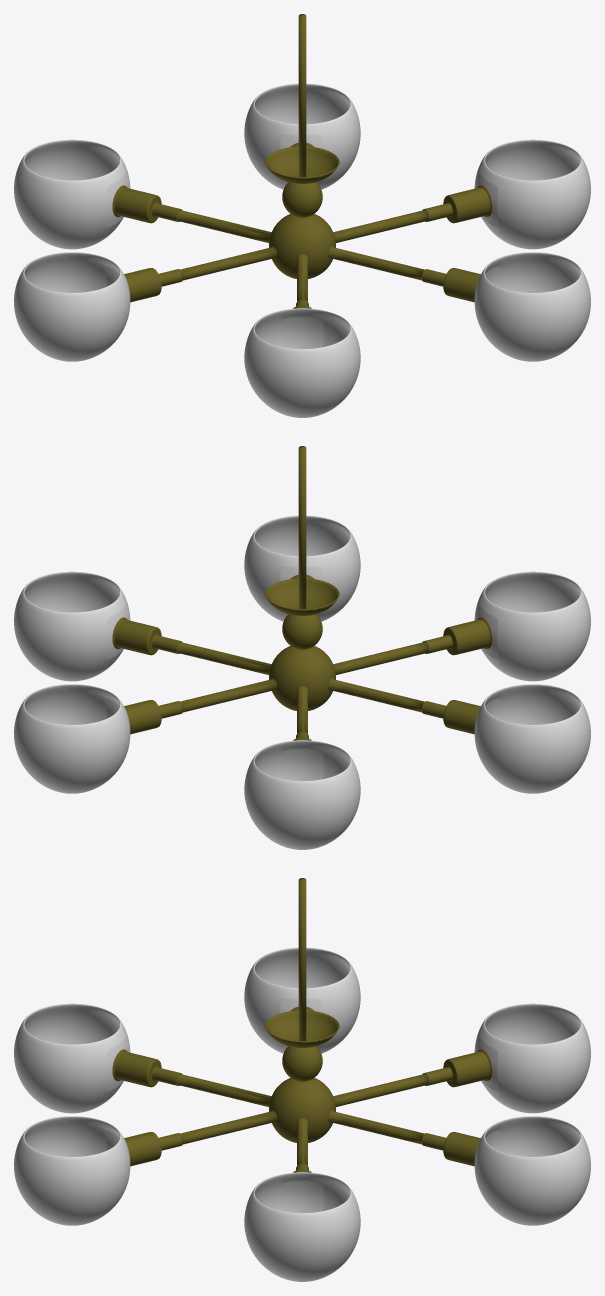
File: skedafa17f.glb
3 views of the same model, one above another, from view 1: azimuth 30°, elevation 25°; view 2: azimuth 150°, elevation 25°; view 3: azimuth 270°, elevation 25° (orthographic).
Visible parts, largest first — view 1: Pole.004_11, Pole.006_15, Pole.003_9, Pole.001_5, Pole.005_13, Pole.002_7, Ball_3, Ball.002_2, Anchor_0, Ball.001_1; view 2: Pole.002_7, Pole.004_11, Pole.001_5, Pole.005_13, Pole.003_9, Pole.006_15, Ball_3, Ball.002_2, Anchor_0, Ball.001_1; view 3: Pole.002_7, Pole.006_15, Pole.005_13, Pole.003_9, Pole.001_5, Pole.004_11, Ball_3, Ball.002_2, Anchor_0, Ball.001_1.
Boxes of the visible parts, x1,y1,x2,y2 form: Pole.004_11: (14,246,276,361); Pole.006_15: (328,246,590,361); Pole.003_9: (14,139,271,249); Pole.001_5: (333,139,590,249); Pole.005_13: (244,254,360,417); Pole.002_7: (244,83,360,189); Ball_3: (269,214,335,278); Ball.002_2: (265,146,339,183); Anchor_0: (298,14,306,176); Ball.001_1: (282,182,322,217); Pole.002_7: (14,678,276,793); Pole.004_11: (328,678,590,793); Pole.001_5: (14,571,271,681); Pole.005_13: (333,571,590,681); Pole.003_9: (244,686,360,849); Pole.006_15: (244,515,360,621); Ball_3: (269,646,335,710); Ball.002_2: (265,578,339,615); Anchor_0: (298,446,306,608); Ball.001_1: (282,614,322,649); Pole.002_7: (328,1110,590,1225); Pole.006_15: (14,1110,276,1225); Pole.005_13: (14,1003,271,1113); Pole.003_9: (333,1003,590,1113); Pole.001_5: (244,1118,360,1281); Pole.004_11: (244,947,360,1053); Ball_3: (269,1078,335,1142); Ball.002_2: (265,1010,339,1047); Anchor_0: (298,878,306,1040); Ball.001_1: (282,1046,322,1081).
Bounding box in the file's own units: 0.7 × 0.3393 × 0.623.
